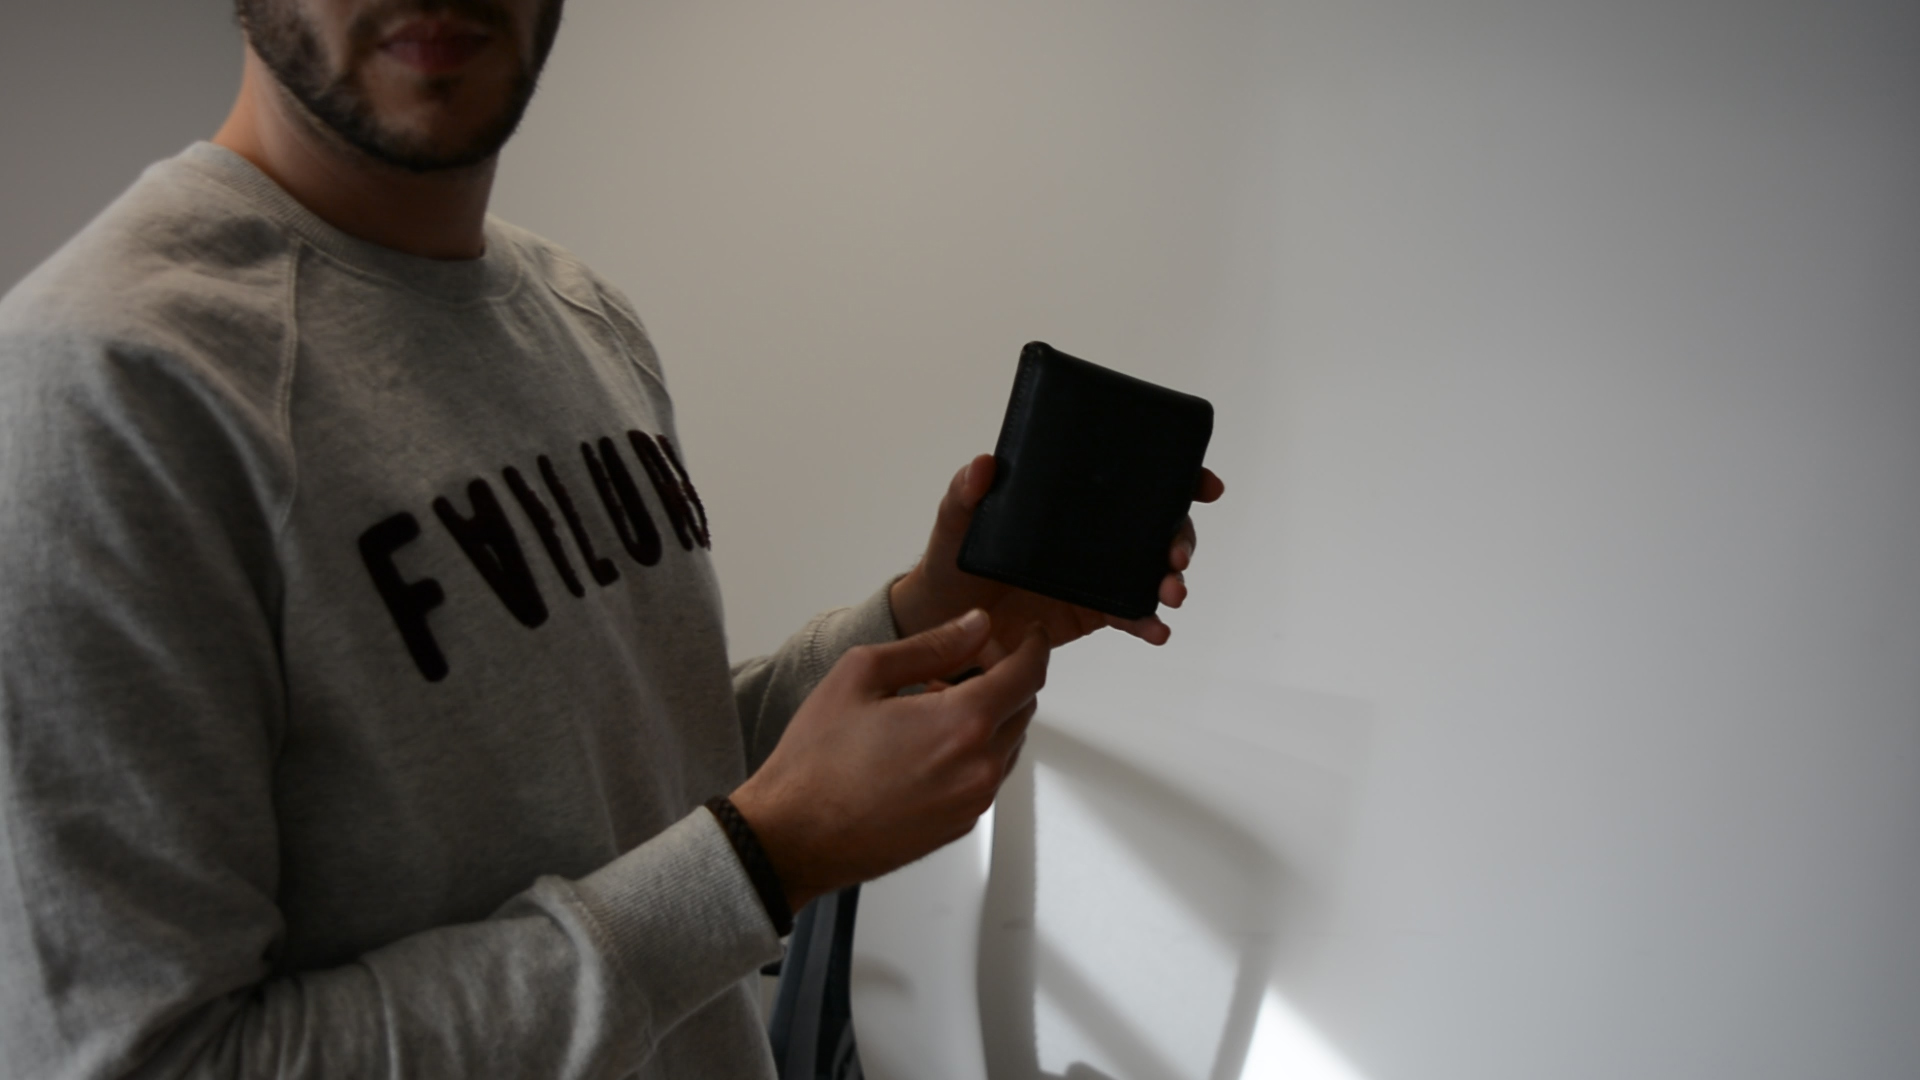monedero: (951, 338, 1220, 625)
